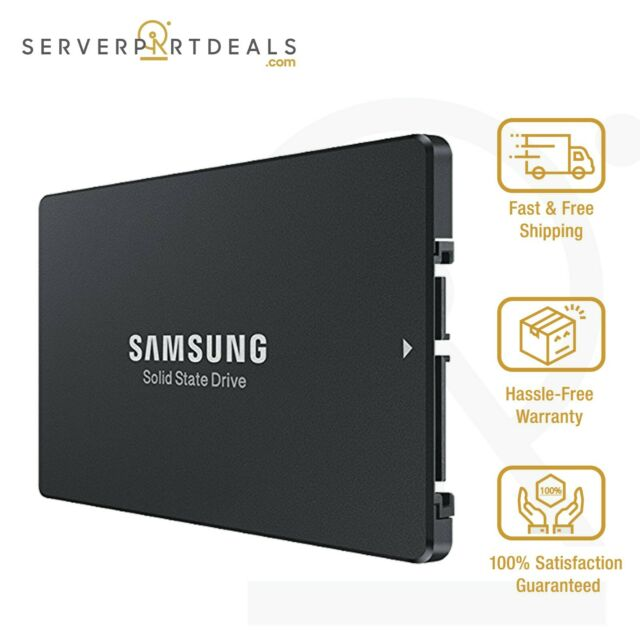samsung-hdd-240gb: (11, 130, 448, 570)
